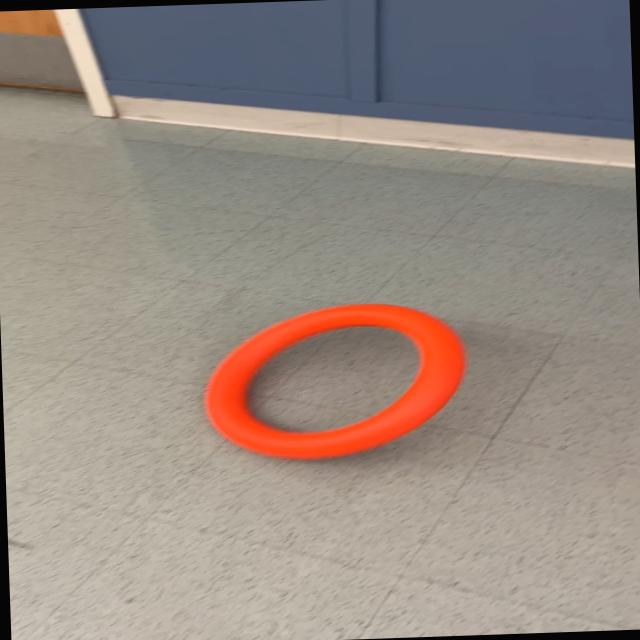note: (198, 298, 471, 464)
